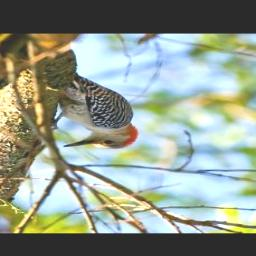Woodpecker: (40, 66, 159, 154)
